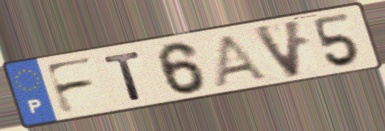5: (309, 11, 364, 71)
6: (155, 40, 210, 96)
A: (212, 32, 273, 88)
F: (41, 55, 98, 117)
T: (101, 49, 145, 103)
V: (249, 17, 305, 81)
